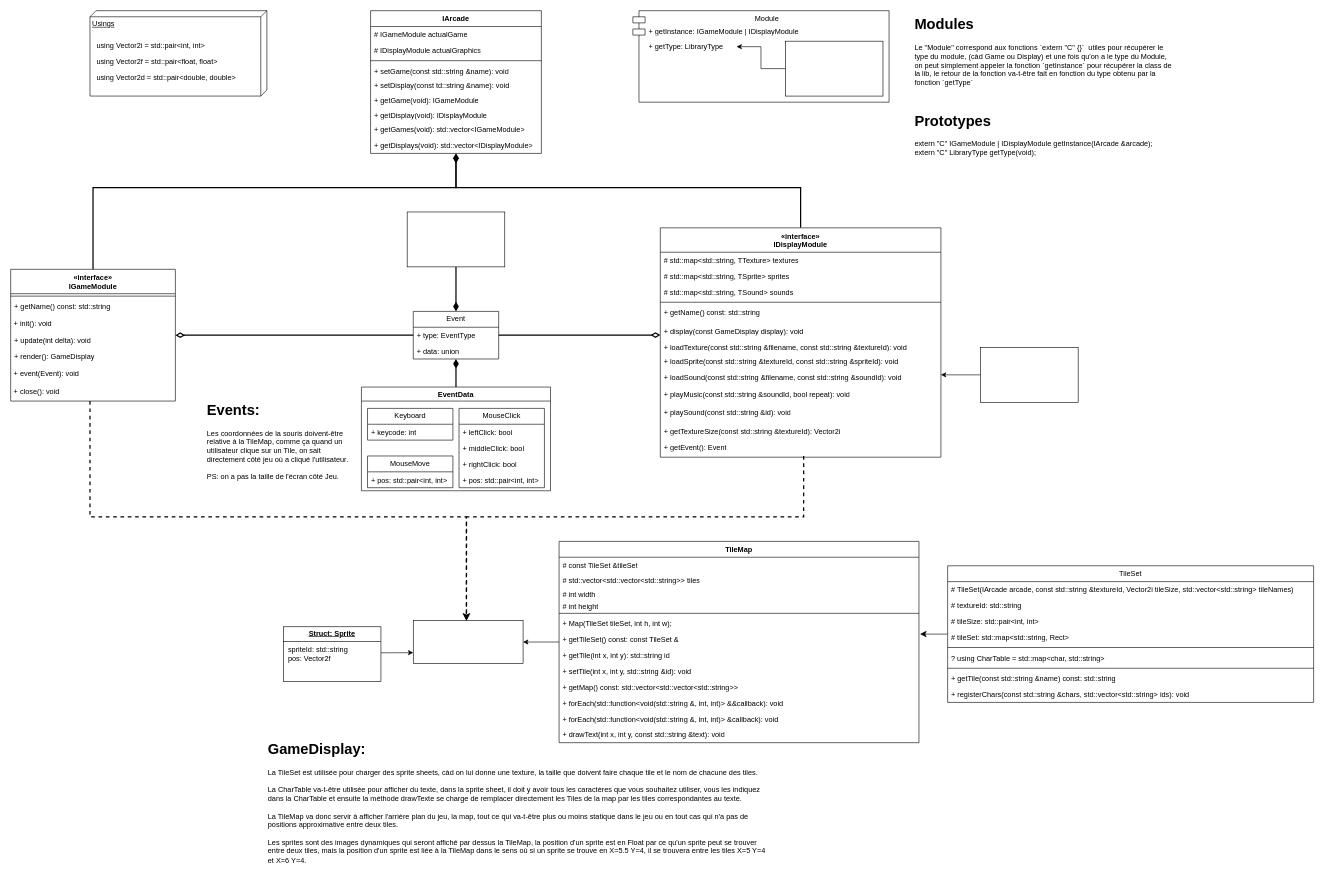
Some shapes in this 1324 by 889 pixel diagram are drawn without their labels. Each missing label, with the centre of its shape:
"Enum: EventType NONE = 0 KEYBOARD = 1 MOUSE_CLICK = 2 MOUSE_MOVE = 3" goes at [456,239].
"Enum:LibraryType NONE = 0 GAME = 1 DISPLAY = 2" goes at [834,68].
"Struct: GameDisplay tiles: TileMap sprites: std::vector<Sprite>" goes at [468,641].
"Struct: Rect x = int y = int width = int height = int" goes at [1029,374].
